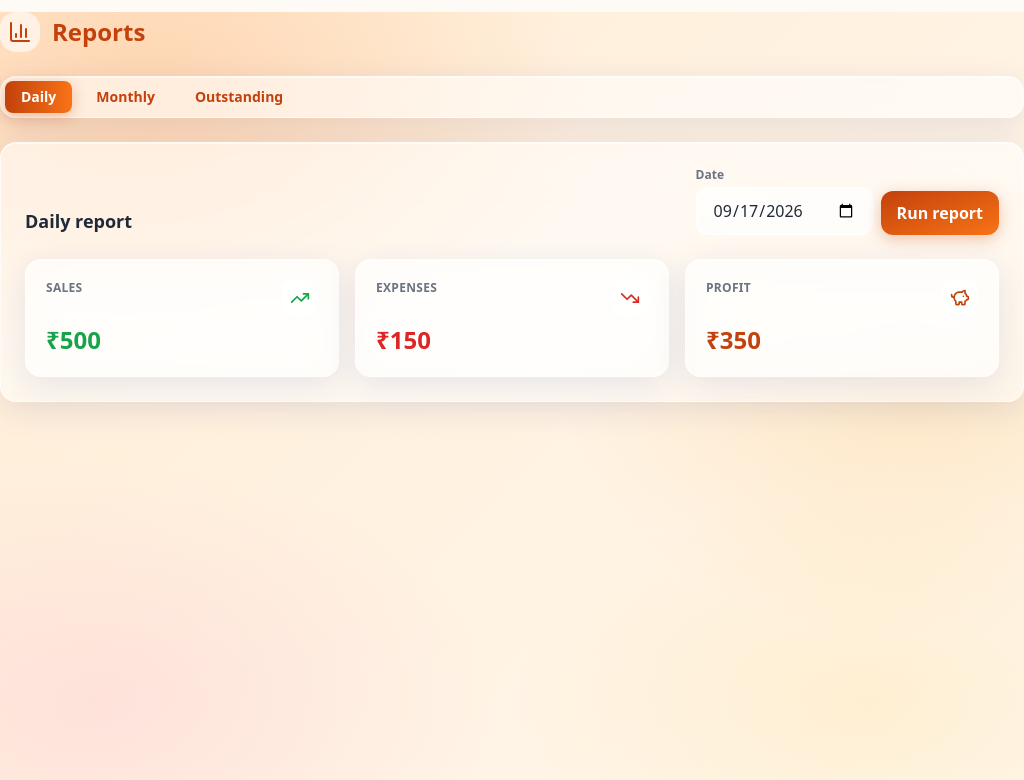
Test: Reports page › renders the monthly report with the selected month
The width and height of the screenshot is (1024, 780).
Expected: the heading "Daily report" is shown, [25,207,132,235]
Click the button "Monthly".
click(126, 97)  # box [80,81,171,113]
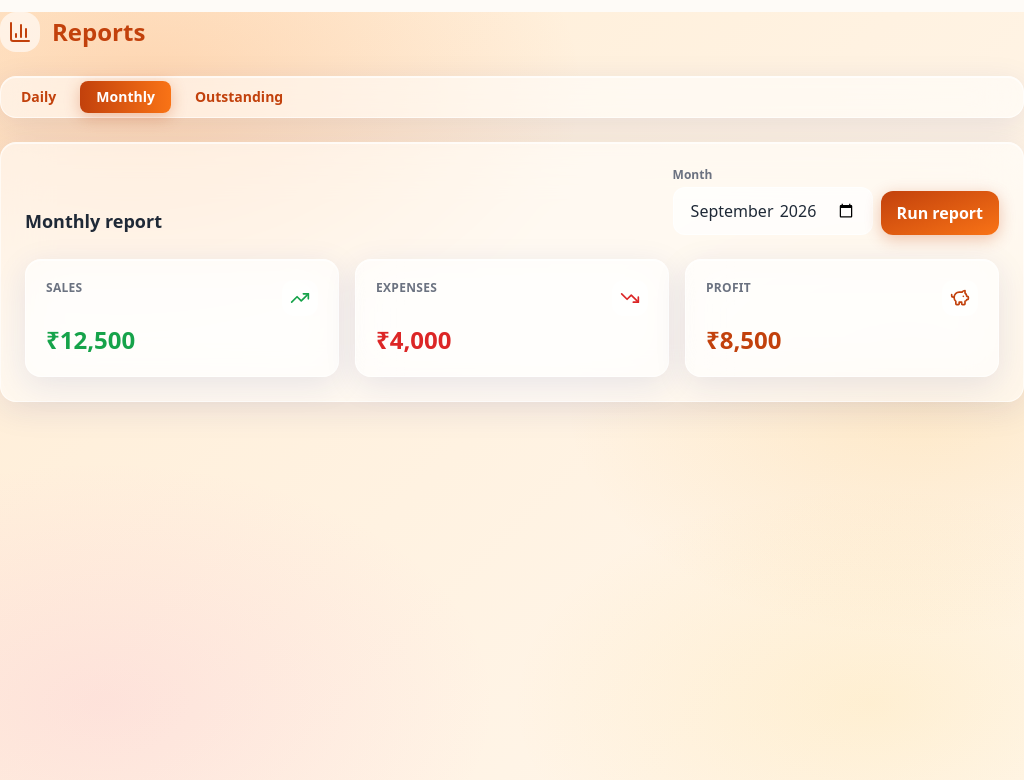
Result: the heading "Monthly report" is shown at [25,207,162,235]
Result: the text "₹12,500" is shown at [46,323,135,356]
Result: the text "₹4,000" is shown at [376,323,452,356]
